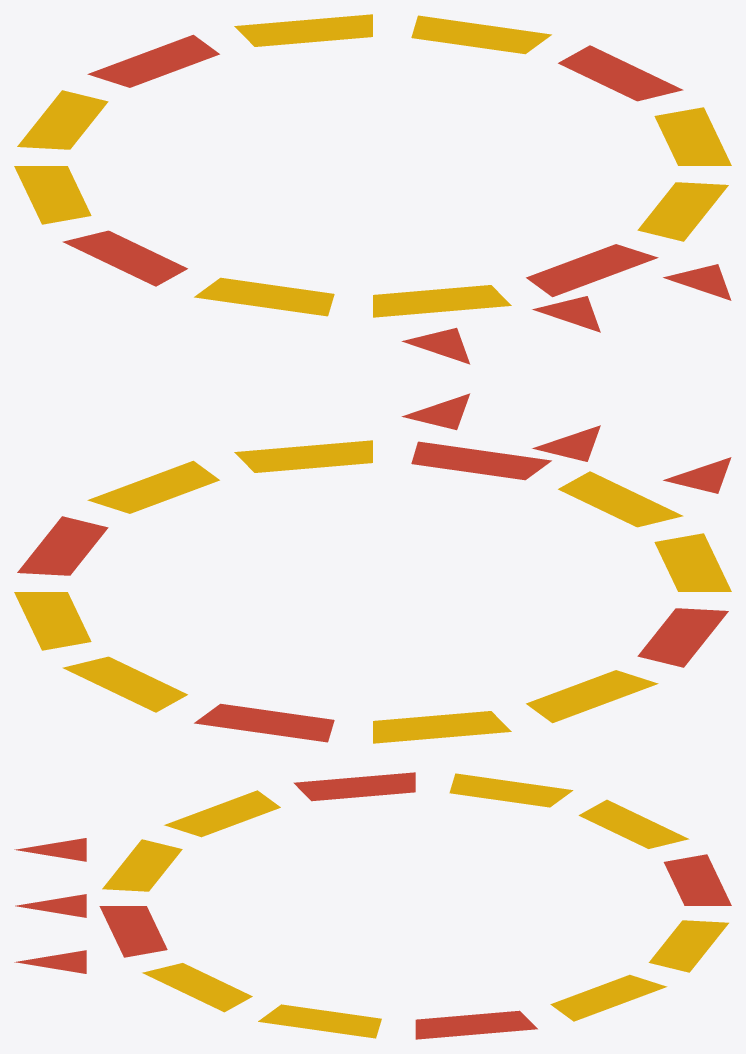
The model's file is warning_ring.glb.
3 renders of one model, top to bottom at view 1: azimuth 30°, elevation 25°; view 2: azimuth 150°, elevation 25°; view 3: azimuth 270°, elevation 25°, orthographic. The views are drawn at different scales.
Visible parts, largest first — view 1: RF_warning_ring; view 2: RF_warning_ring; view 3: RF_warning_ring.
Boxes of the visible parts, box(x1,y1,x2,y2) form: RF_warning_ring: box(14, 14, 731, 364); RF_warning_ring: box(14, 393, 731, 743); RF_warning_ring: box(14, 772, 731, 1039).
Bounding box in the file's own units: 2 × 0 × 2.27.
